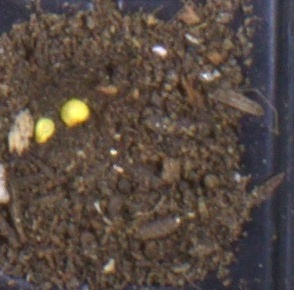chilli seed: (59, 98, 90, 128), (34, 117, 55, 144)
